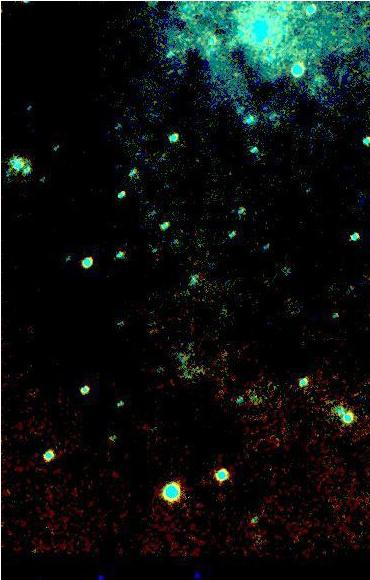star: (215, 60, 245, 90)
